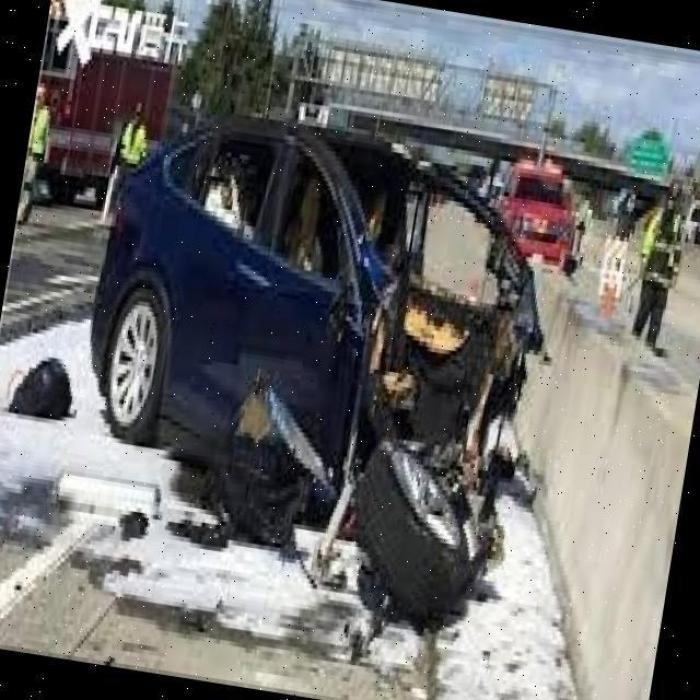Accident: (50, 105, 600, 644)
